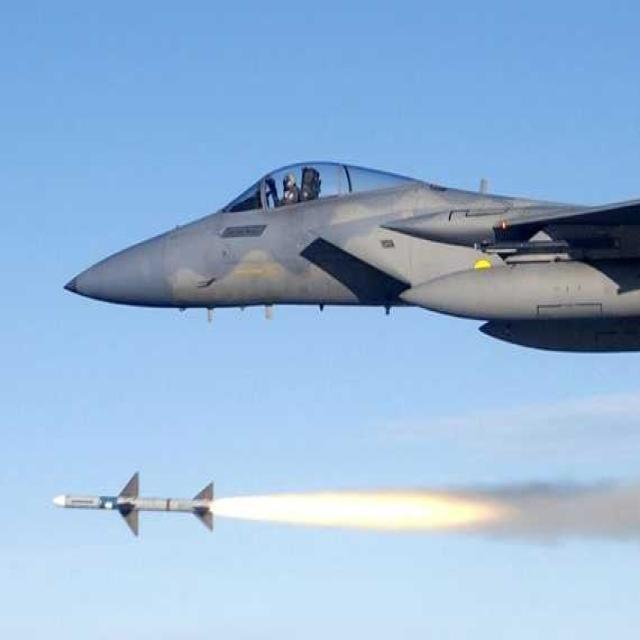missile: (53, 469, 215, 544)
